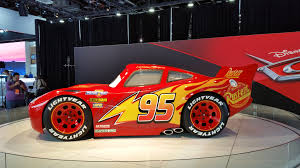mcqueen: (28, 61, 259, 143)
